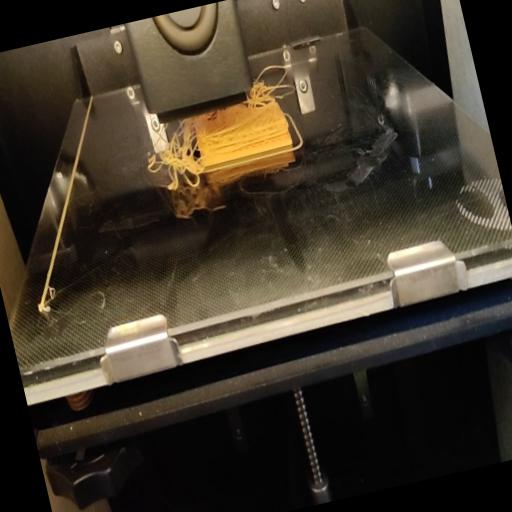spaghetti: (142, 120, 204, 195), (242, 56, 296, 112)
